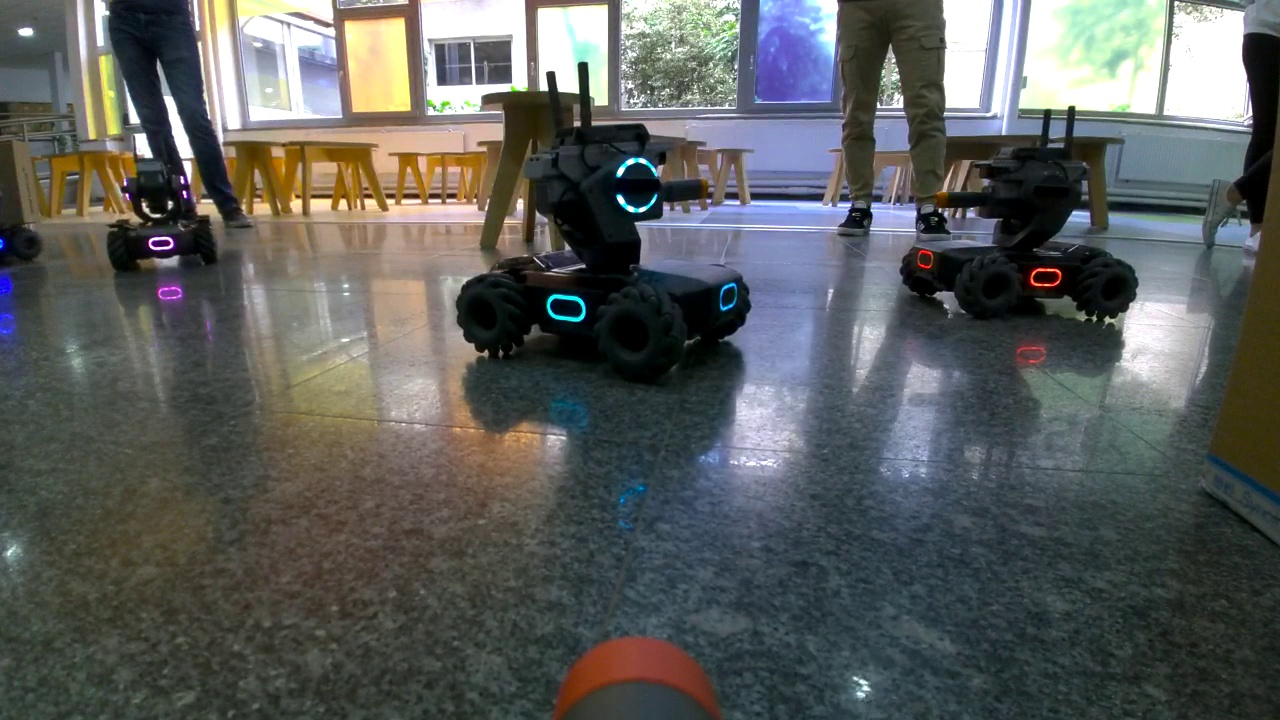robot: (453, 126, 750, 369), (912, 148, 1132, 326), (112, 173, 208, 266)
